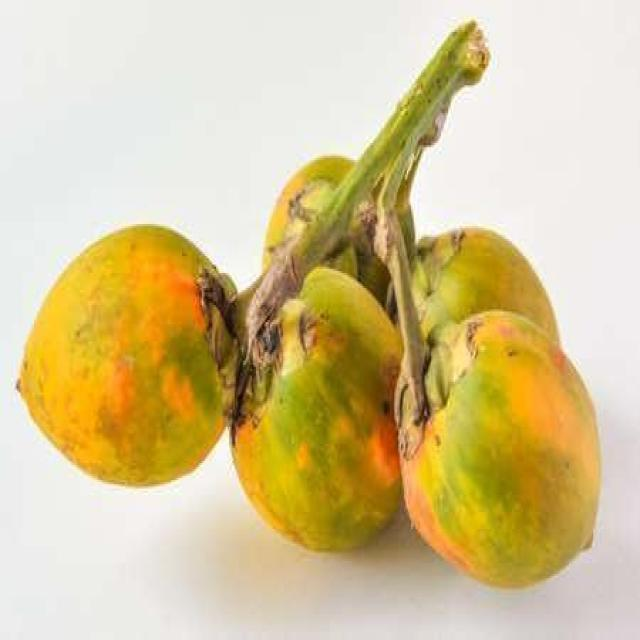good: (14, 224, 238, 489), (398, 309, 602, 593), (230, 265, 404, 555), (420, 228, 560, 346)
